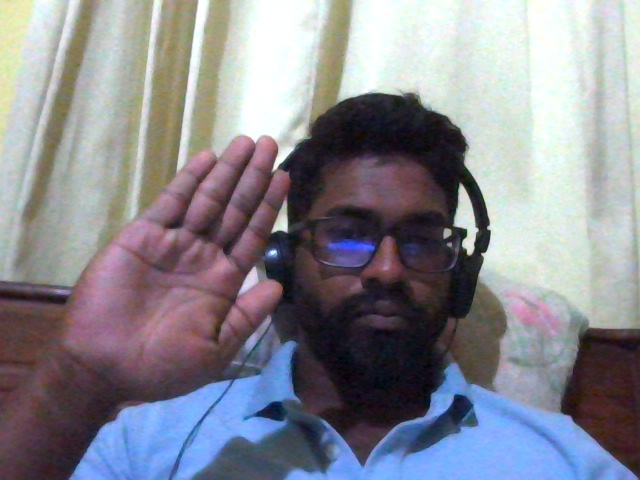Hello: (38, 127, 294, 405)
